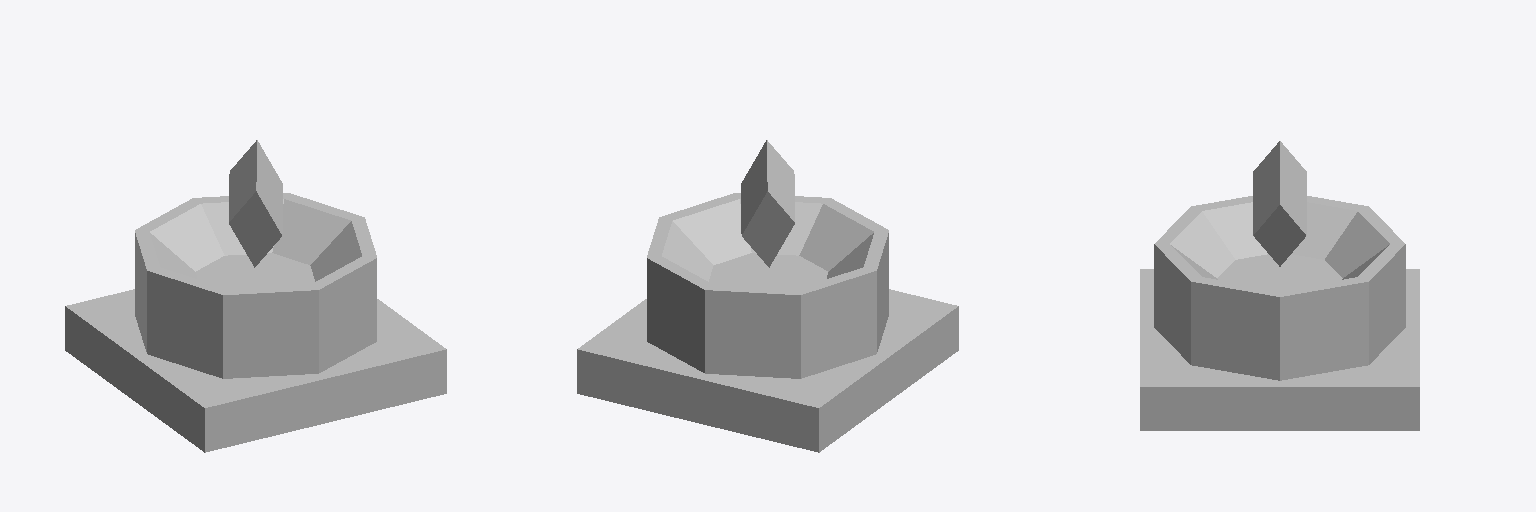
File: mini_powercore.obj
3 renders of one model, left to right at view 1: azimuth 30°, elevation 25°; view 2: azimuth 150°, elevation 25°; view 3: azimuth 270°, elevation 25°, orthographic.
Parts seen in each view (by area): view 1: mini_powercore, smallEnergyCrystal; view 2: mini_powercore, smallEnergyCrystal; view 3: mini_powercore, smallEnergyCrystal.
Boxes of the visible parts, <box> form: mini_powercore: <box>65,193,446,452</box>; smallEnergyCrystal: <box>229,140,282,267</box>; mini_powercore: <box>577,193,958,452</box>; smallEnergyCrystal: <box>741,140,794,267</box>; mini_powercore: <box>1140,196,1419,430</box>; smallEnergyCrystal: <box>1253,141,1306,266</box>.
Bounding box in the file's own units: 1 × 0.9169 × 1.